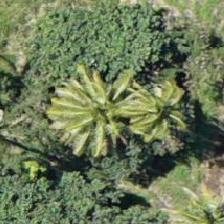coconut_tree: (115, 64, 205, 154), (52, 67, 142, 157)
